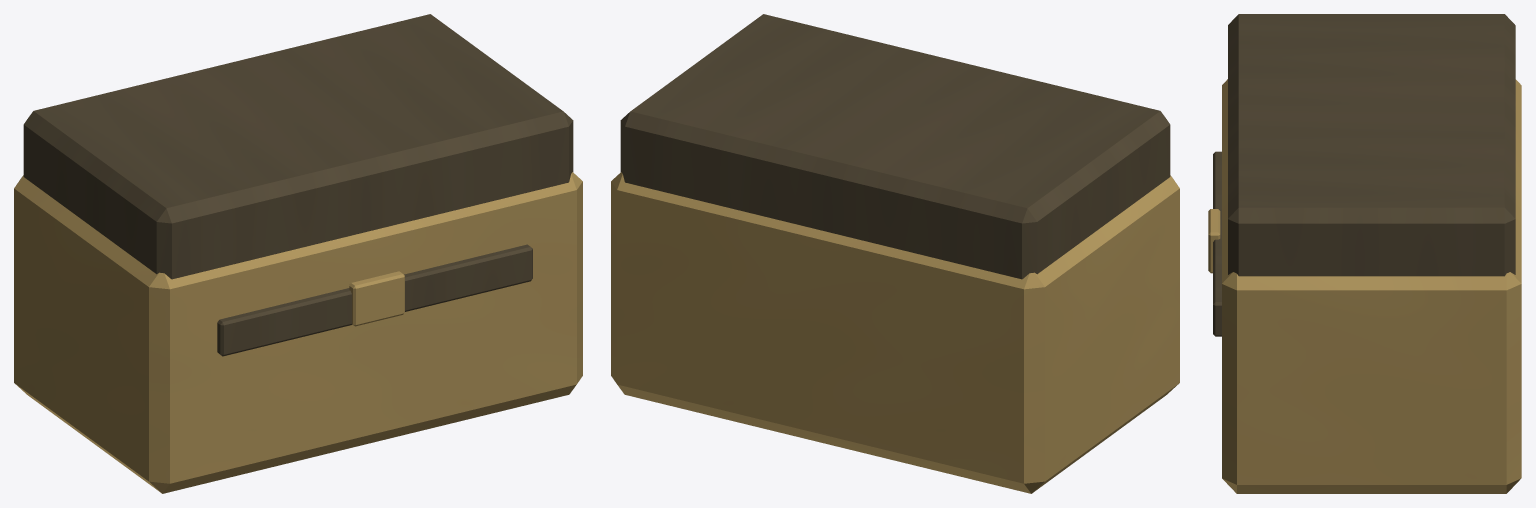
Rendered from WarrensC_WVC054_ReliquaryBox_Mars_SM.fbx.
The picture shows the model from 3 angles, left to right: view 1: azimuth 30°, elevation 25°; view 2: azimuth 150°, elevation 25°; view 3: azimuth 270°, elevation 25°; orthographic projection.
Parts seen in each view (by area): view 1: WarrensC_WVC054_ReliquaryBox_Mars_SM.001; view 2: WarrensC_WVC054_ReliquaryBox_Mars_SM.001; view 3: WarrensC_WVC054_ReliquaryBox_Mars_SM.001.
Boxes of the visible parts, box(x1,y1,x2,y2) form: WarrensC_WVC054_ReliquaryBox_Mars_SM.001: box(14, 14, 582, 493); WarrensC_WVC054_ReliquaryBox_Mars_SM.001: box(611, 14, 1179, 493); WarrensC_WVC054_ReliquaryBox_Mars_SM.001: box(1208, 14, 1521, 493).
Size of the model in its own units: 80 by 50 by 50.
